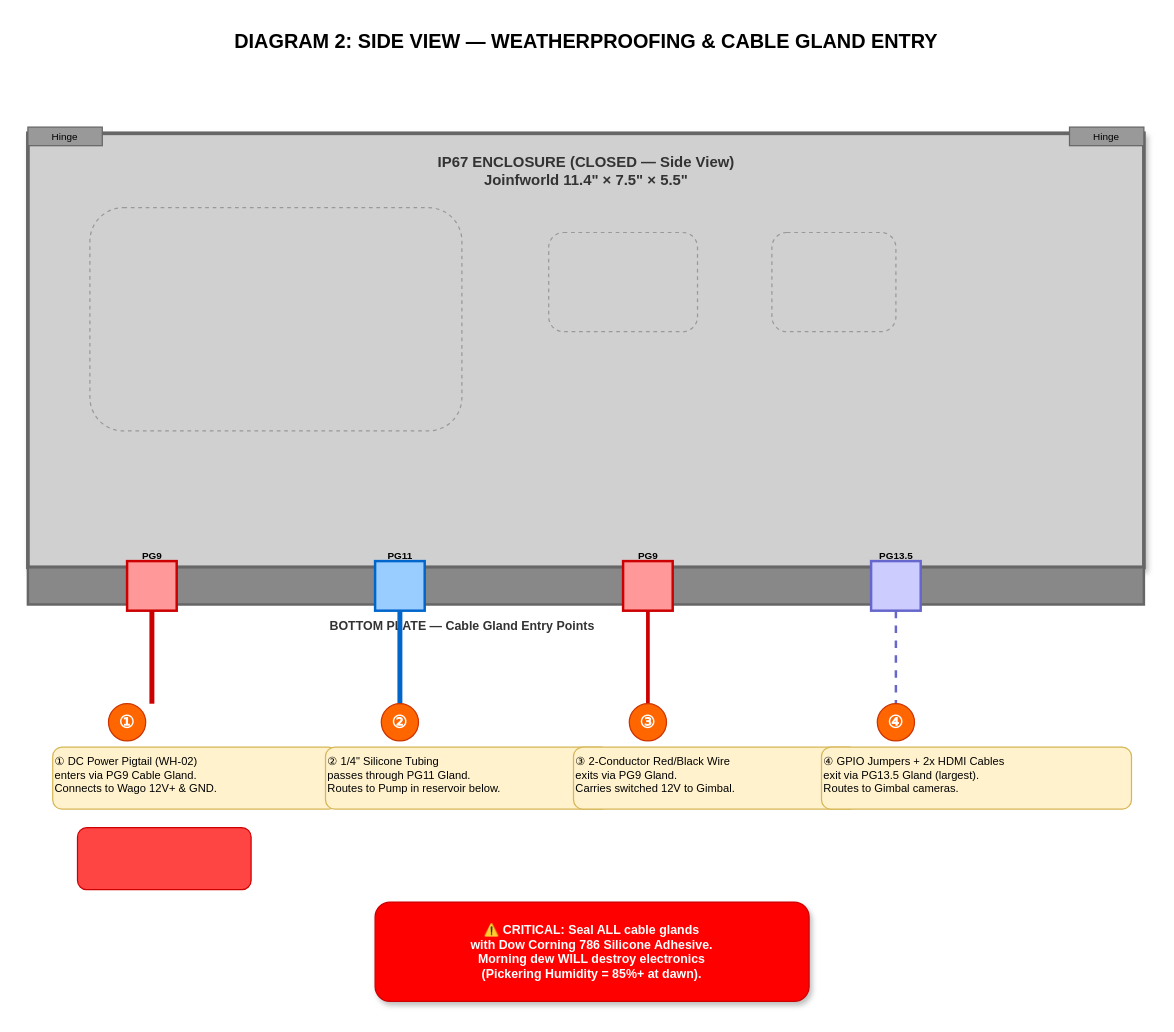
Some shapes in this 1174 by 1032 pixel diagram are drawn without their labels. Here are the shapes that lost their labels. From the top down, the centre of each, then its label:
At (622,281): "Relay".
At (833,281): "Wagos".
At (275,318): "Yahboom Orin Nano".
At (163,858): "🔌 12V 10A Brick (External)".
